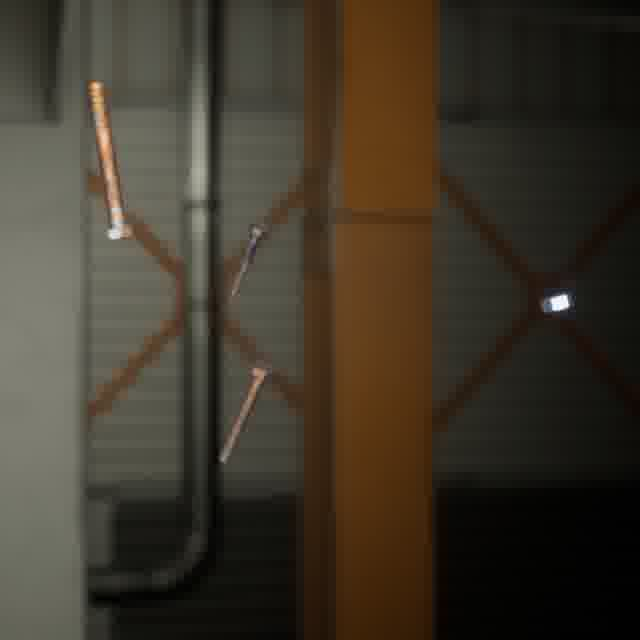bolt: (83, 77, 137, 244), (213, 356, 279, 467), (223, 218, 273, 309)
nut: (535, 288, 577, 317)
